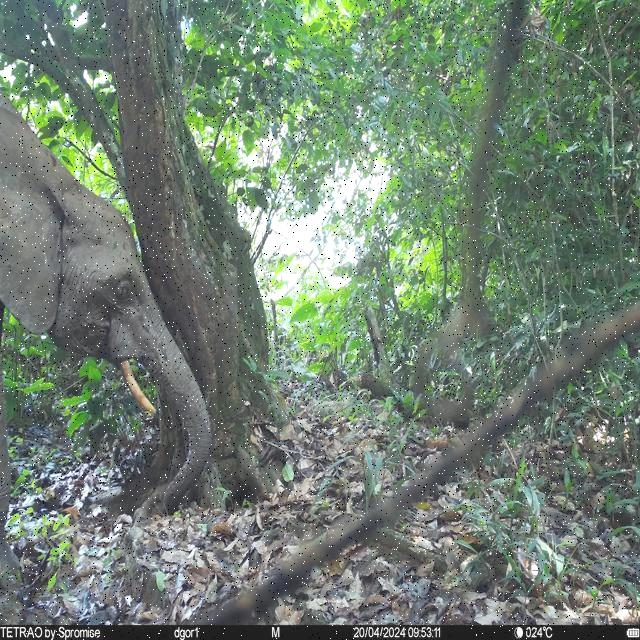ear: (0, 105, 66, 337)
elephant: (0, 87, 212, 593)
tusk: (120, 358, 158, 414)
